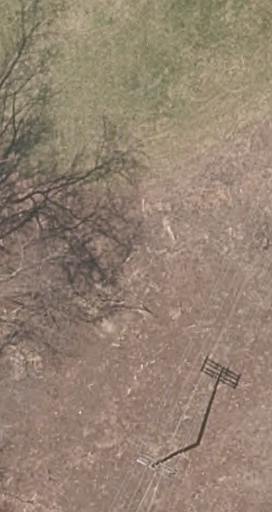DT: (134, 450, 178, 483)
